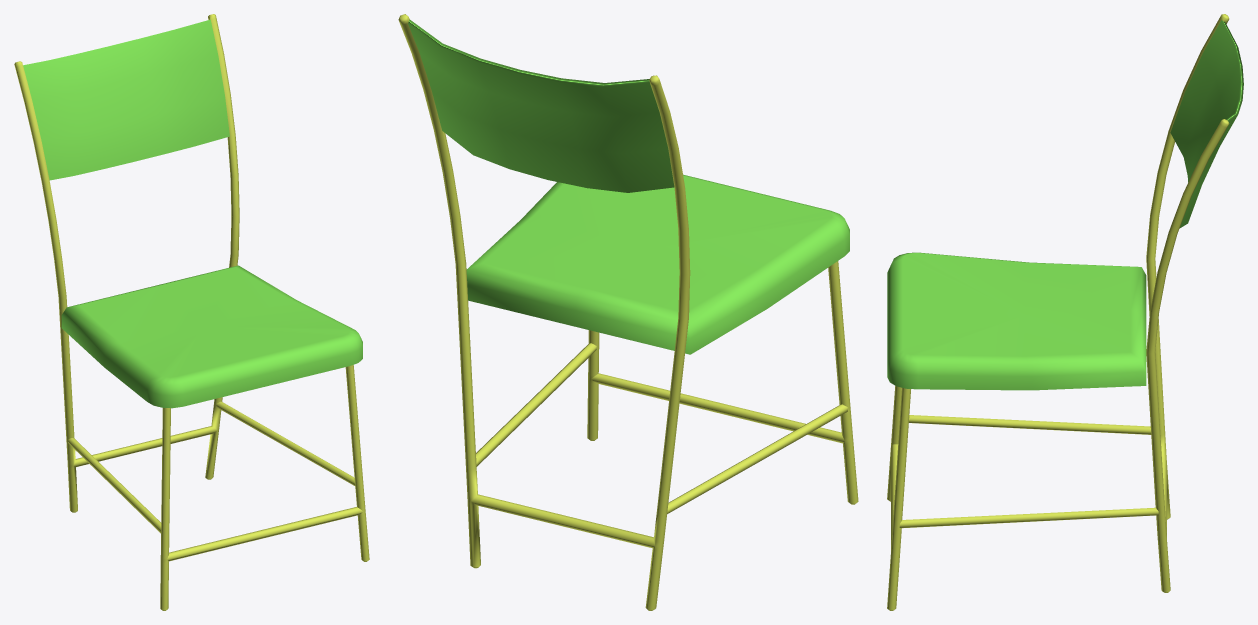
Rendered from chair.fbx.
3 views of the same model, side by side, from view 1: azimuth 30°, elevation 25°; view 2: azimuth 150°, elevation 25°; view 3: azimuth 270°, elevation 25° (orthographic). The views are drawn at different scales.
Parts seen in each view (by area): view 1: chair; view 2: chair; view 3: chair.
Boxes of the visible parts, box(x1,y1,x2,y2) form: chair: box(14, 14, 369, 610); chair: box(398, 14, 858, 610); chair: box(887, 14, 1243, 610).
Bounding box in the file's own units: 0.4414 × 0.8745 × 0.5792.
